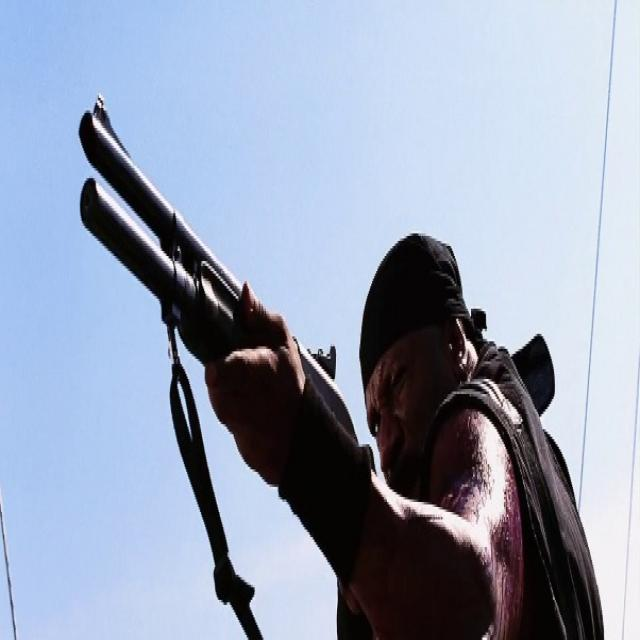rifle: (78, 87, 360, 455)
